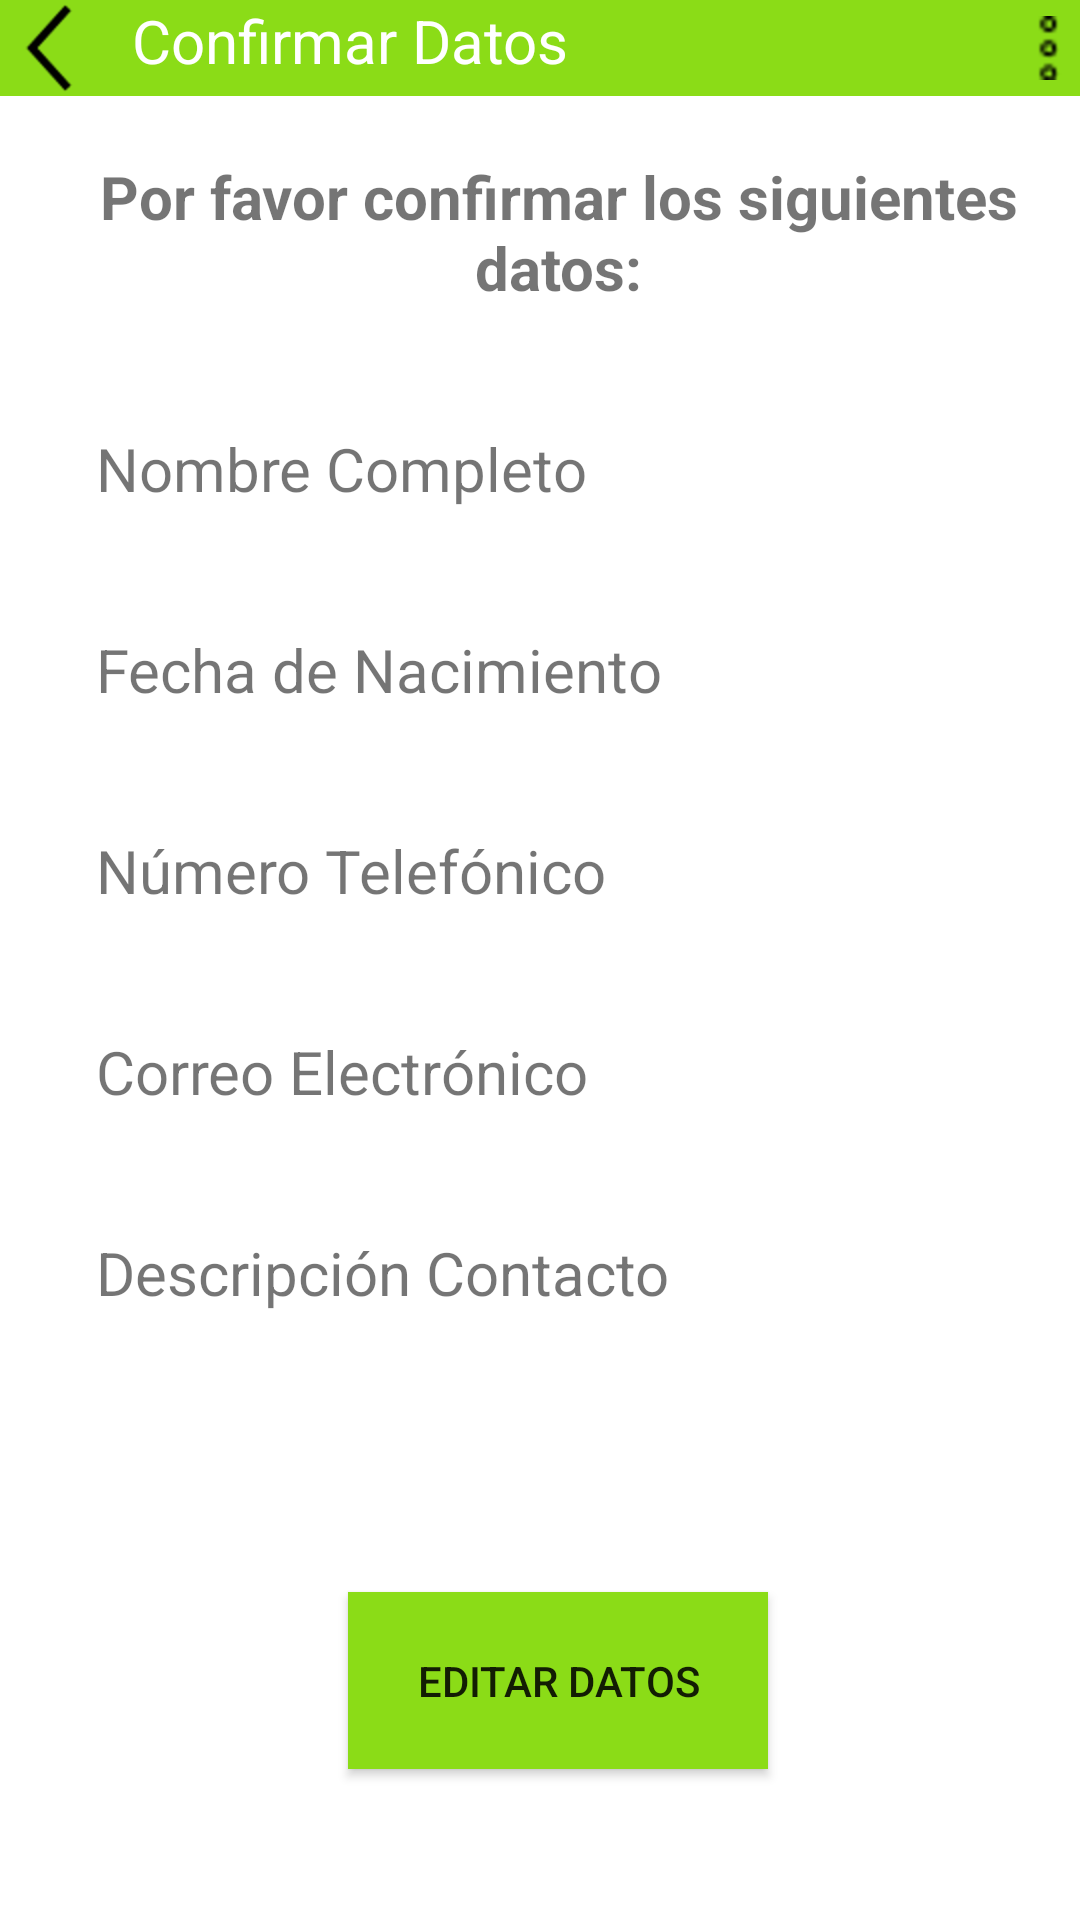

Named icons in this screenshot (1080×1920) and their bounding boxes, (x1, y1, x2, y2):
back: (26, 5, 72, 91)
menu: (1039, 16, 1058, 80)
